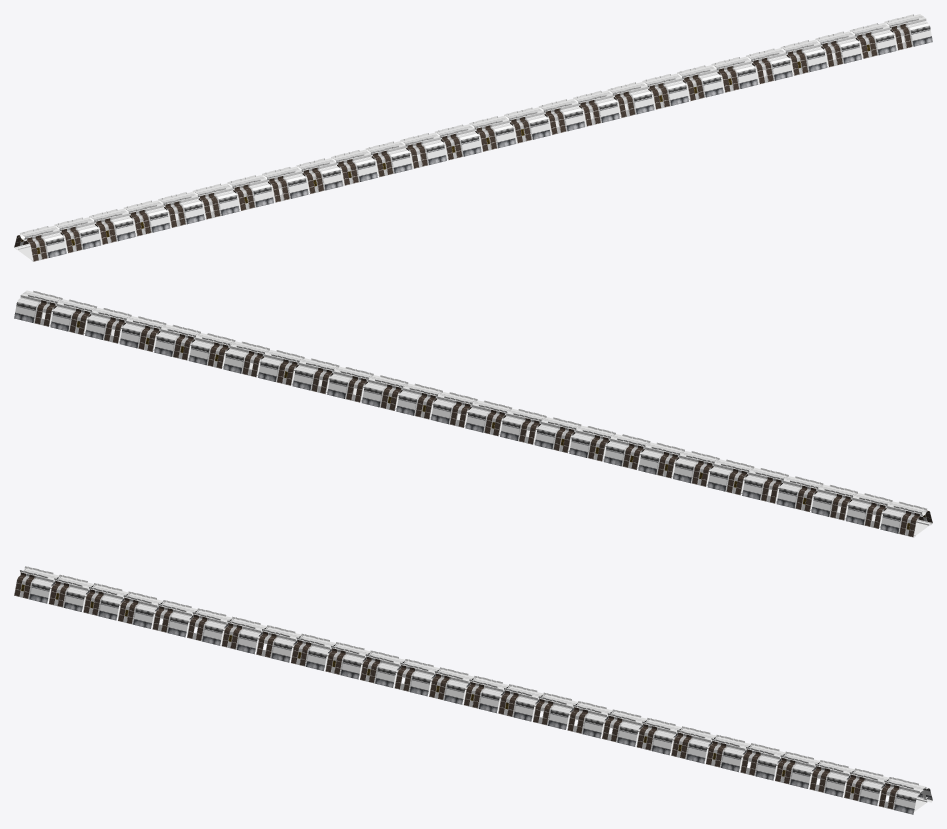
Rendered from traka_1.obj.
3 views of the same model, one above another, from view 1: azimuth 30°, elevation 25°; view 2: azimuth 150°, elevation 25°; view 3: azimuth 330°, elevation 25° (orthographic).
Bounding box in the file's own units: 74.61 × 1.68 × 2.85.
